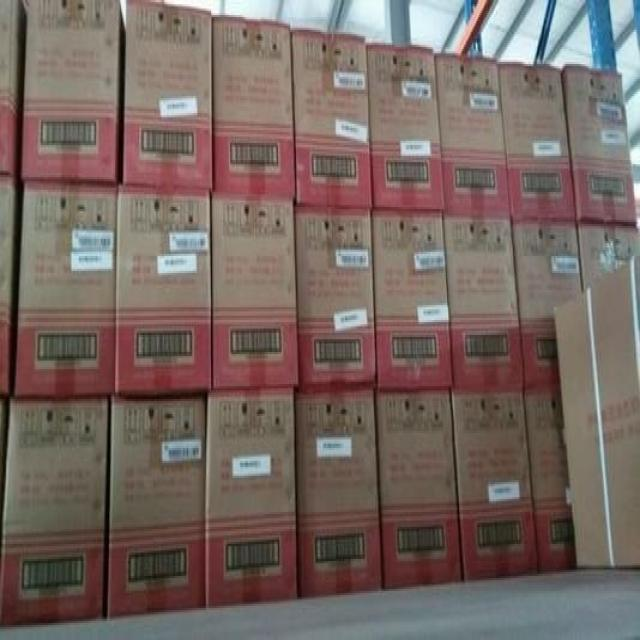box: (554, 256, 638, 568), (1, 398, 112, 627), (14, 183, 117, 401), (106, 399, 206, 619), (205, 391, 300, 606), (116, 186, 211, 394), (21, 1, 126, 184), (295, 390, 382, 599), (120, 2, 213, 189), (376, 389, 463, 588), (212, 196, 299, 391), (450, 391, 538, 581), (211, 14, 295, 201), (294, 205, 377, 390), (373, 211, 453, 390), (445, 215, 526, 389), (294, 28, 371, 210), (366, 43, 444, 211), (559, 62, 639, 224), (435, 53, 510, 217), (499, 61, 577, 218), (514, 217, 583, 391), (523, 388, 577, 576), (0, 0, 29, 180), (0, 175, 23, 395), (579, 224, 639, 290)
